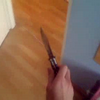knife: (40, 28, 59, 73)
